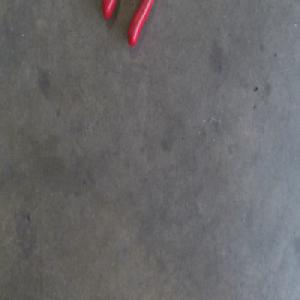Pliers: (100, 0, 153, 46)
